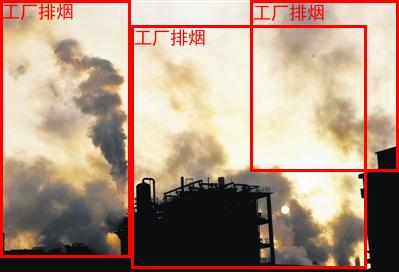工厂排烟: (131, 25, 366, 268), (0, 0, 130, 257), (250, 0, 398, 171)
